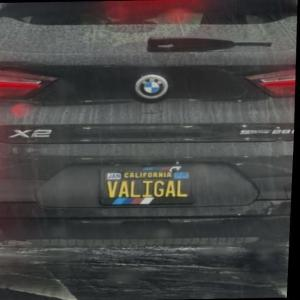Plate: (99, 166, 198, 205)
